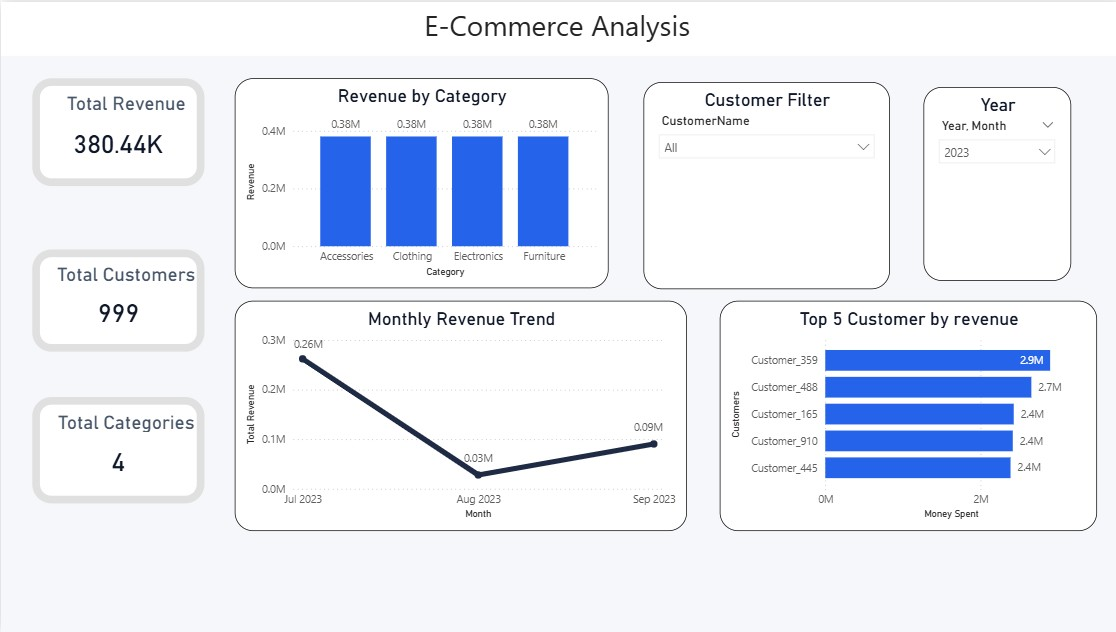

Layout of this report page (visuals, bound fields, positions):
{"tool":"powerbi","page":{"name":"Page 1","canvas":[1280,720],"ordinal":0},"visuals":[{"type":"card","title":"Total Revenue","fields":{"Values":["Sum(vw_MonthlyRevenue.TotalRevenue)"]},"box":[35.7,87.1,197.1,122.9],"z":0},{"type":"card","title":"Total Customers","fields":{"Values":["CountNonNull(vw_TopCustomers.CustomerName)"]},"box":[35.7,282.9,197.1,117.1],"z":1000},{"type":"card","title":"Total Categories","fields":{"Values":["CountNonNull(vw_CategoryRevenue.CategoryRevenue)"]},"box":[35.7,451.4,197.1,121.4],"z":2000},{"type":"lineChart","title":"Monthly Revenue Trend","fields":{"Y":["Sum(vw_MonthlyRevenue.TotalRevenue)"],"Category":["vw_MonthlyRevenue.Month.Variation.Date Hierarchy.Year","vw_MonthlyRevenue.Month.Variation.Date Hierarchy.Quarter","vw_MonthlyRevenue.Month.Variation.Date Hierarchy.Month","vw_MonthlyRevenue.Month.Variation.Date Hierarchy.Day"]},"box":[267.1,341.4,517.1,262.9],"z":3000},{"type":"clusteredColumnChart","title":"Revenue by Category","fields":{"Category":["vw_CategoryRevenue.Category"],"Y":["Sum(vw_MonthlyRevenue.TotalRevenue)"]},"box":[267.1,87.1,427.1,240],"z":4000},{"type":"clusteredBarChart","title":"Top 5 Customer by revenue","fields":{"Category":["vw_TopCustomers.CustomerName"],"Y":["Sum(vw_TopCustomers.TotalSpent)"]},"box":[821.4,341.4,431.4,262.9],"z":5000},{"type":"slicer","title":"Year","fields":{"Values":["vw_MonthlyRevenue.Month.Variation.Date Hierarchy.Year","vw_MonthlyRevenue.Month.Variation.Date Hierarchy.Month"]},"box":[1054.3,97.1,168.6,221.4],"z":6000},{"type":"slicer","title":"Customer Filter","fields":{"Values":["vw_TopCustomers.CustomerName"]},"box":[734.3,91.4,281.4,237.1],"z":7000},{"type":"textbox","box":[0,0,1280,61.4],"z":8000}]}

Visuals, with their boxes in screenshot pixels (x1, y1, x2, y2), scaled from the page's 1280x720 canvas onto the 1116x632 screenshot:
"Total Revenue" card: {"x1": 31, "y1": 76, "x2": 203, "y2": 184}
"Total Customers" card: {"x1": 31, "y1": 248, "x2": 203, "y2": 351}
"Total Categories" card: {"x1": 31, "y1": 396, "x2": 203, "y2": 503}
"Monthly Revenue Trend" lineChart: {"x1": 233, "y1": 300, "x2": 684, "y2": 530}
"Revenue by Category" clusteredColumnChart: {"x1": 233, "y1": 76, "x2": 605, "y2": 287}
"Top 5 Customer by revenue" clusteredBarChart: {"x1": 716, "y1": 300, "x2": 1092, "y2": 530}
"Year" slicer: {"x1": 919, "y1": 85, "x2": 1066, "y2": 280}
"Customer Filter" slicer: {"x1": 640, "y1": 80, "x2": 886, "y2": 288}
textbox: {"x1": 0, "y1": 0, "x2": 1115, "y2": 54}
